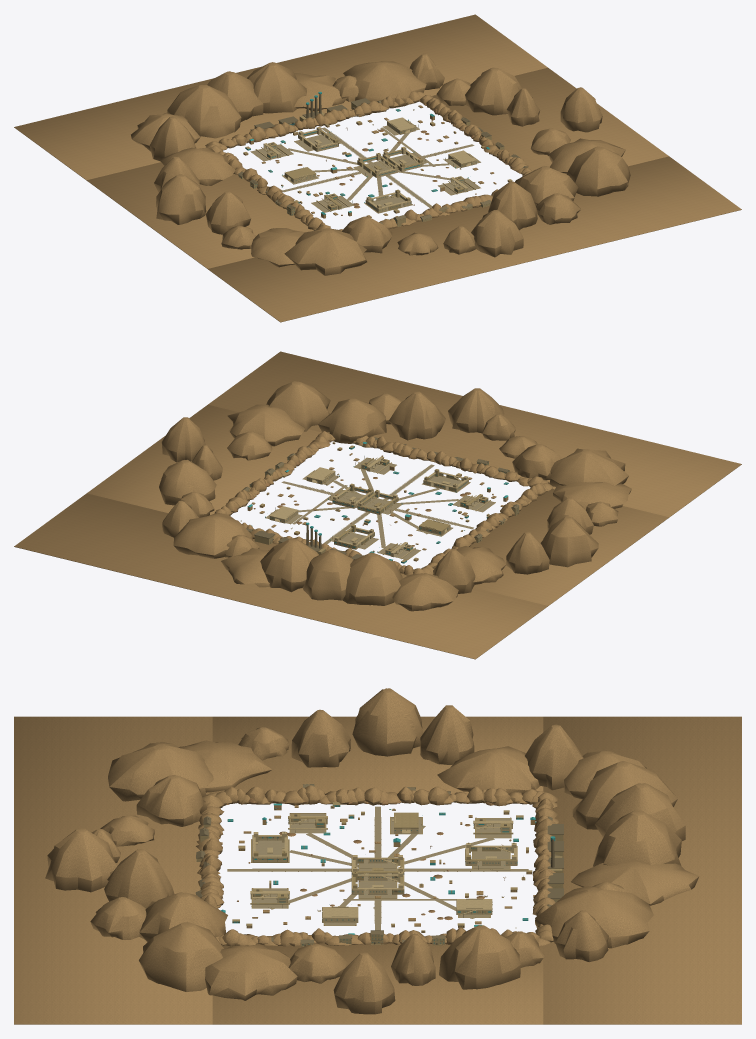
File: sakyuu-lod0.glb
3 views of the same model, one above another, from view 1: azimuth 30°, elevation 25°; view 2: azimuth 150°, elevation 25°; view 3: azimuth 270°, elevation 25° (orthographic). The views are drawn at different scales.
Parts seen in each view (by area): view 1: HB_sakyuu_LOD0_terrain, HB_sakyuu_LOD0_road, HB_sakyuu_LOD0_wall_alt, HB_sakyuu_LOD0_wall, HB_sakyuu_LOD0_trim, HB_sakyuu_LOD0_obstacle; view 2: HB_sakyuu_LOD0_terrain, HB_sakyuu_LOD0_road, HB_sakyuu_LOD0_wall_alt, HB_sakyuu_LOD0_wall, HB_sakyuu_LOD0_trim, HB_sakyuu_LOD0_obstacle; view 3: HB_sakyuu_LOD0_terrain, HB_sakyuu_LOD0_road, HB_sakyuu_LOD0_wall_alt, HB_sakyuu_LOD0_wall, HB_sakyuu_LOD0_trim, HB_sakyuu_LOD0_obstacle, HB_sakyuu_LOD0_natural, HB_sakyuu_LOD0_accent.
Part boxes in pixels (x1,y1,x2,y2): HB_sakyuu_LOD0_terrain: (14, 14, 741, 322); HB_sakyuu_LOD0_road: (251, 110, 479, 213); HB_sakyuu_LOD0_wall_alt: (238, 102, 527, 226); HB_sakyuu_LOD0_wall: (255, 117, 476, 212); HB_sakyuu_LOD0_trim: (238, 94, 527, 224); HB_sakyuu_LOD0_obstacle: (243, 105, 512, 218); HB_sakyuu_LOD0_terrain: (14, 351, 741, 659); HB_sakyuu_LOD0_road: (240, 458, 494, 559); HB_sakyuu_LOD0_wall_alt: (247, 442, 519, 562); HB_sakyuu_LOD0_wall: (269, 456, 490, 559); HB_sakyuu_LOD0_trim: (241, 437, 522, 559); HB_sakyuu_LOD0_obstacle: (247, 443, 508, 561); HB_sakyuu_LOD0_terrain: (14, 688, 741, 1024); HB_sakyuu_LOD0_road: (227, 806, 528, 930); HB_sakyuu_LOD0_wall_alt: (196, 784, 563, 946); HB_sakyuu_LOD0_wall: (250, 816, 517, 922); HB_sakyuu_LOD0_trim: (195, 784, 563, 946); HB_sakyuu_LOD0_obstacle: (221, 805, 535, 932); HB_sakyuu_LOD0_natural: (221, 798, 552, 925); HB_sakyuu_LOD0_accent: (221, 803, 555, 934).
Size of the model in its own units: 770 by 61.38 by 770.
9 materials, 8 textured.
